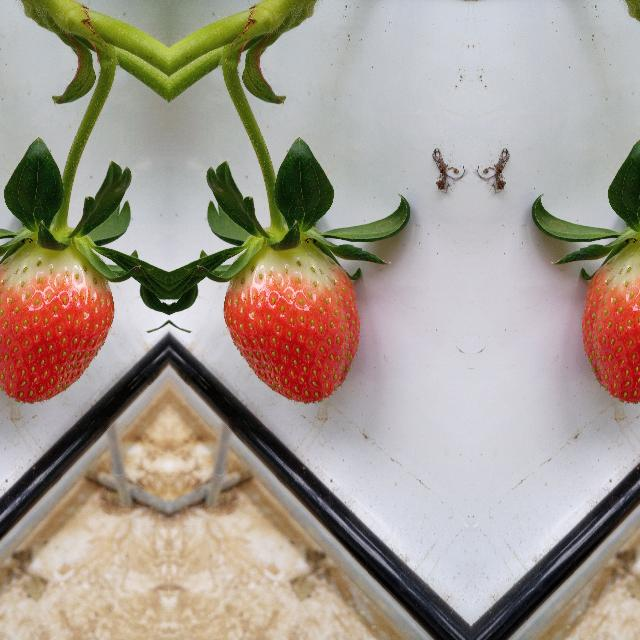Health_100: (222, 238, 361, 404), (0, 237, 114, 404), (580, 237, 640, 404)
